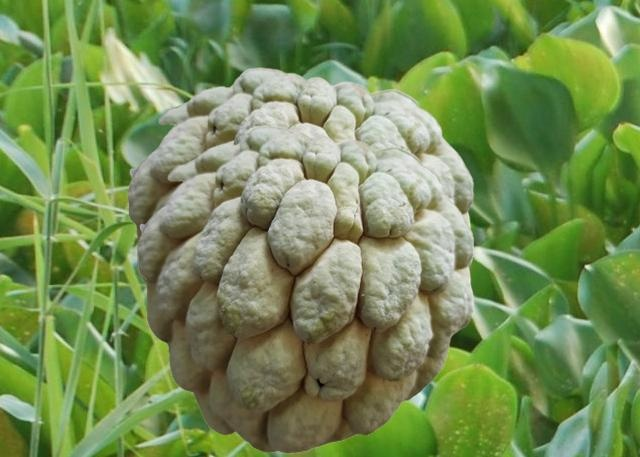atis: (136, 125, 473, 452), (126, 67, 473, 286)
